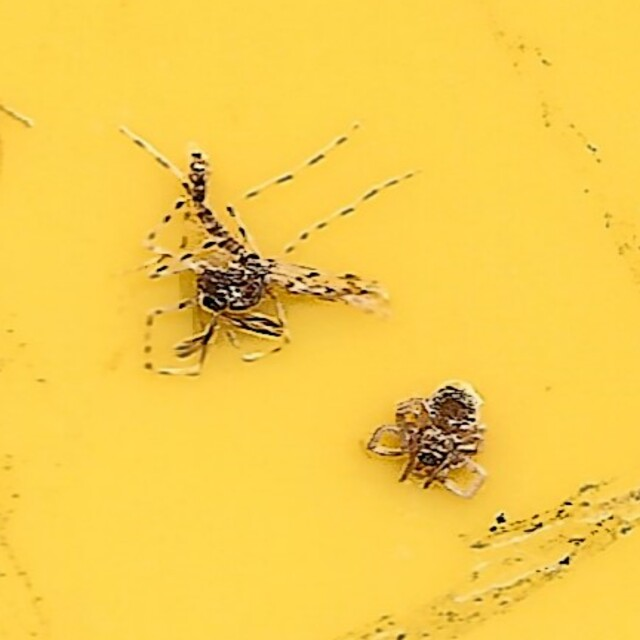Araneae: (370, 378, 492, 506)
Nematocera: (148, 134, 399, 377)
